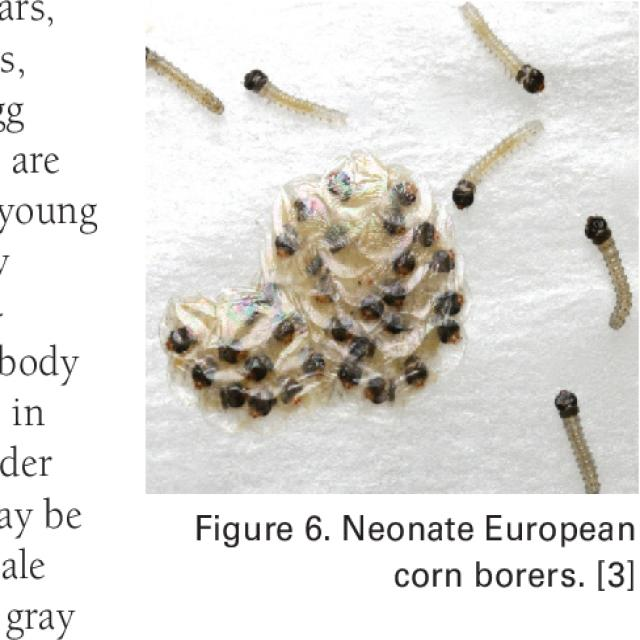cornborer-Larva-: (447, 120, 553, 220), (453, 1, 549, 95), (242, 59, 358, 134), (547, 385, 617, 492), (579, 208, 635, 338)
